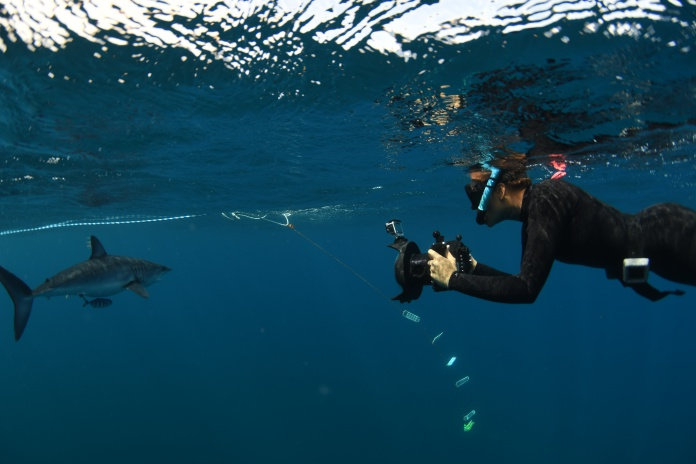Mako: (1, 228, 183, 343)
